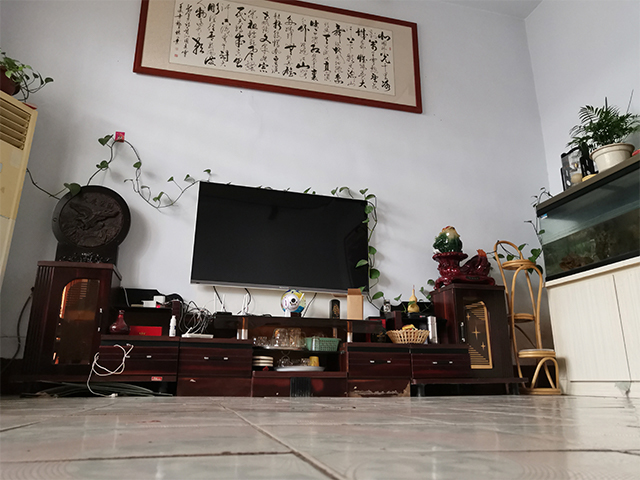cabinet: (6, 258, 531, 400), (542, 255, 640, 399)
wire: (1, 284, 35, 398), (85, 341, 135, 399)
